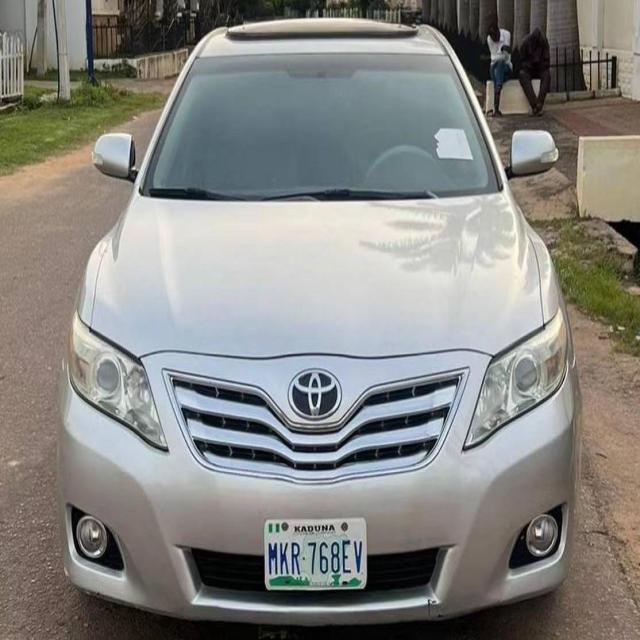Nigerian License Plate - vdataset benjamin-daria: (262, 513, 369, 604)
